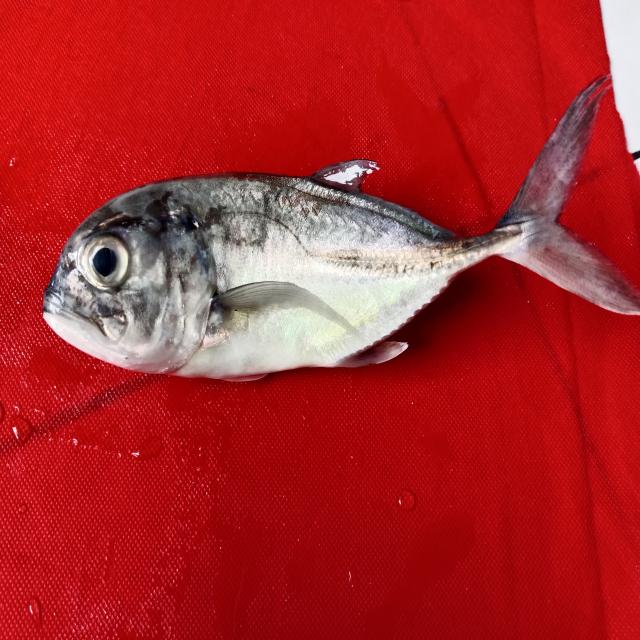ikan: (34, 61, 633, 390)
